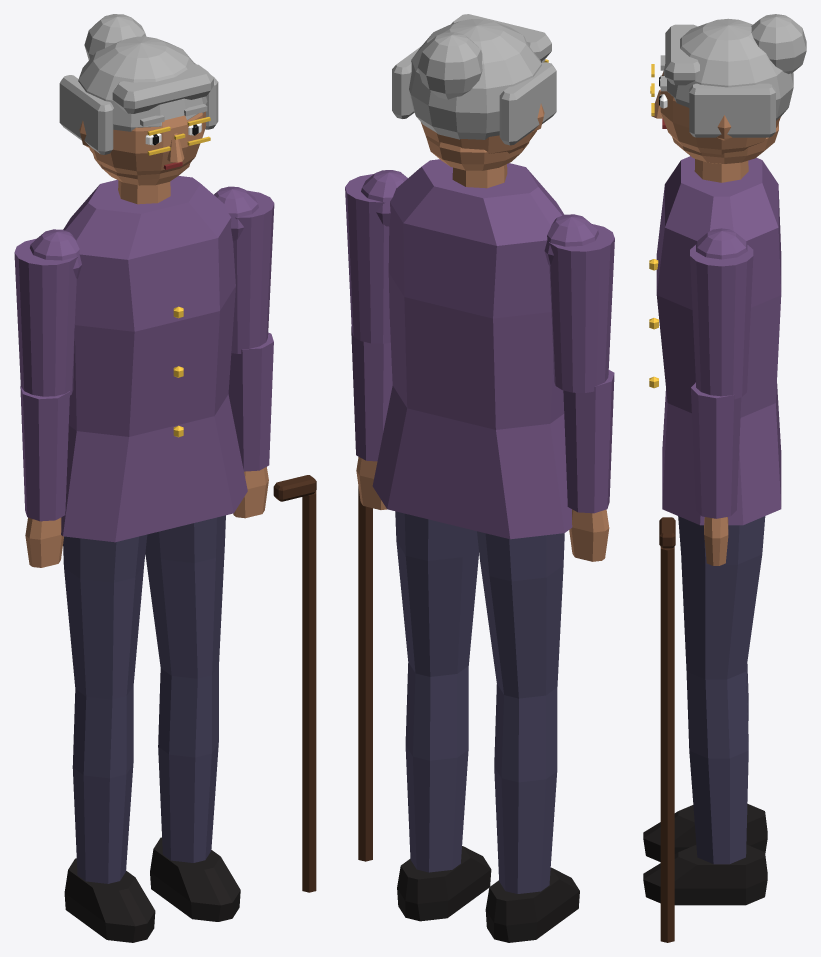
File: customer_elder.obj
The picture shows the model from 3 angles, left to right: view 1: azimuth 30°, elevation 25°; view 2: azimuth 150°, elevation 25°; view 3: azimuth 270°, elevation 25°; orthographic projection. The views are drawn at different scales.
Parts seen in each view (by area): view 1: customer_elder; view 2: customer_elder; view 3: customer_elder.
Boxes of the visible parts, x1,y1,x2,y2 form: customer_elder: (14,14,316,942); customer_elder: (345,14,614,942); customer_elder: (643,14,806,942).
Bounding box in the file's own units: 0.57 × 1.75 × 0.3021.
